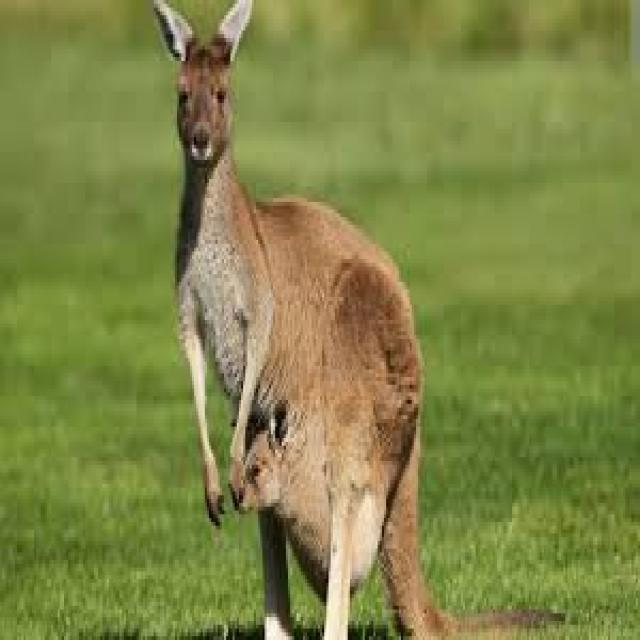Kangaroo: (145, 0, 444, 636), (220, 387, 308, 524)
